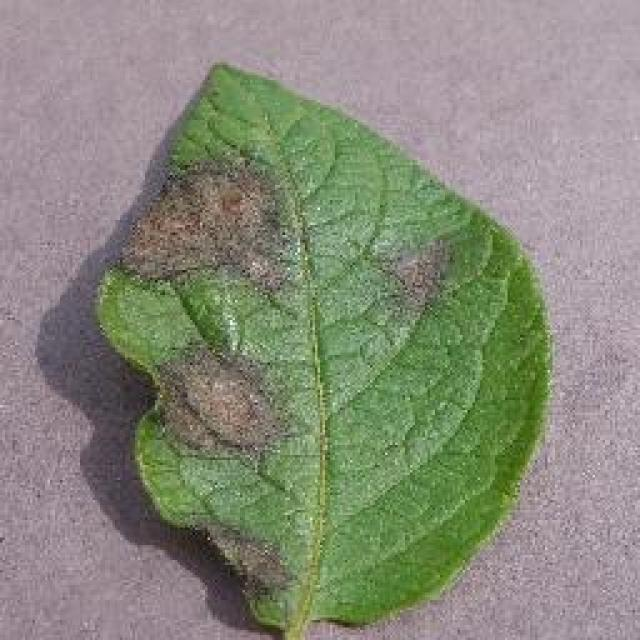late_blight: (90, 58, 555, 638)
